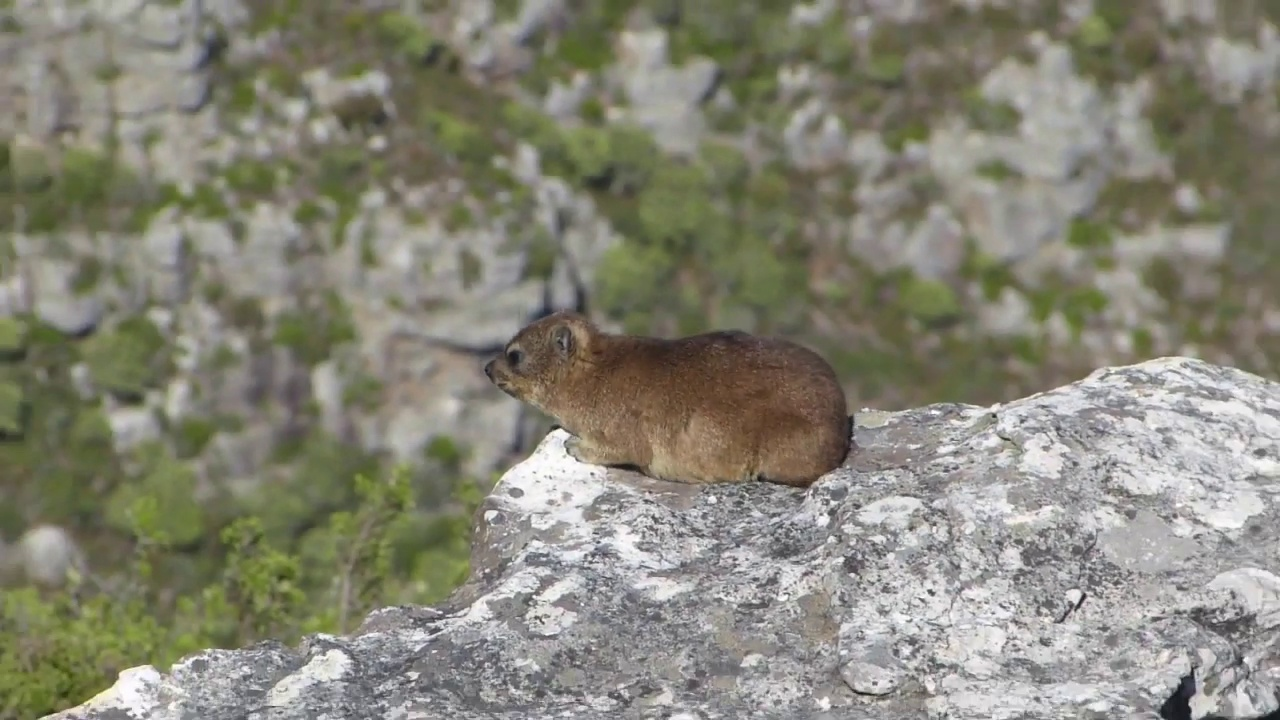Rock Hyrex: (484, 305, 859, 509)
